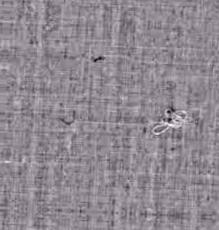snag: (150, 105, 192, 139)
